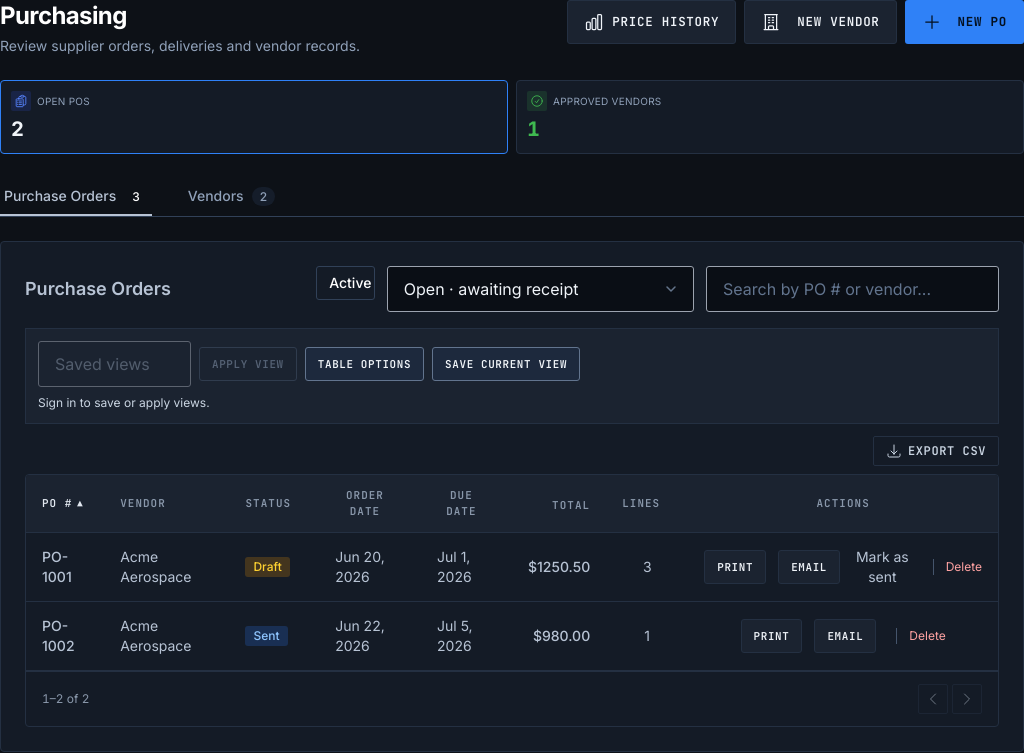
starts with open purchase orders and the Open POs tile returns from all statuses to that queue
This screenshot has width=1024, height=753.
Expected: the heading "Purchasing" is shown, [0,0,127,32]
Expected: the text "PO-RECEIVED" is not shown
Select "Active book · all statuses" in the dropdown named "Purchase order status" at (540, 289), box [387,266,694,312]
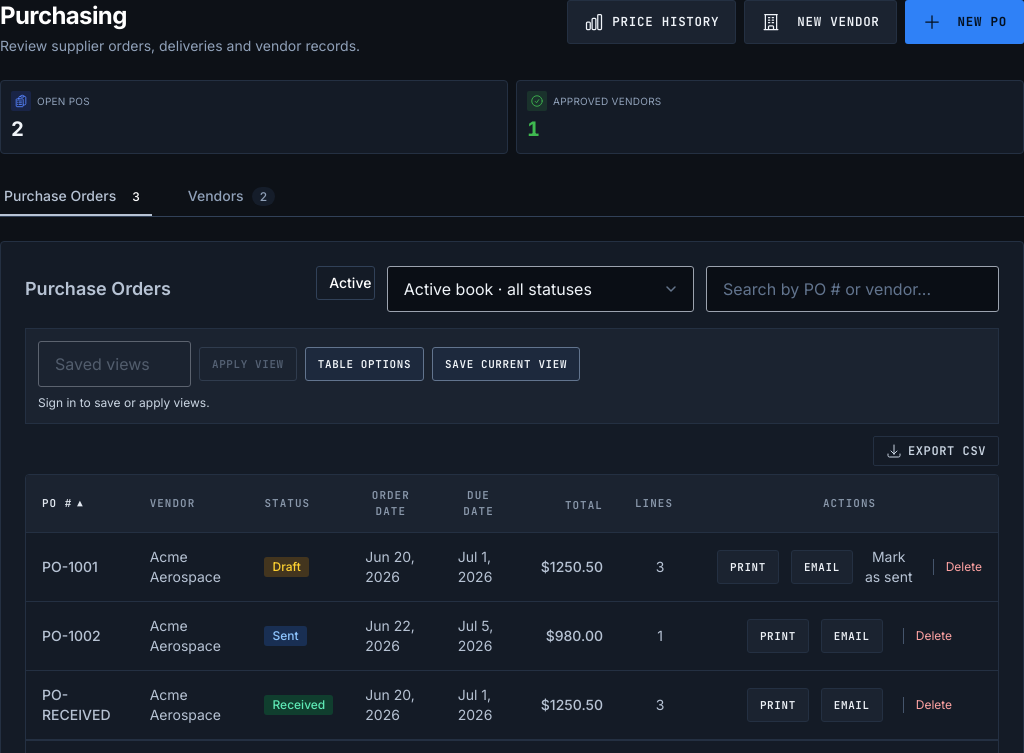
Expected: the text "PO-RECEIVED" is shown 2 times
Click the button "Open POs 2".
click(254, 117)  # box [0,80,508,154]
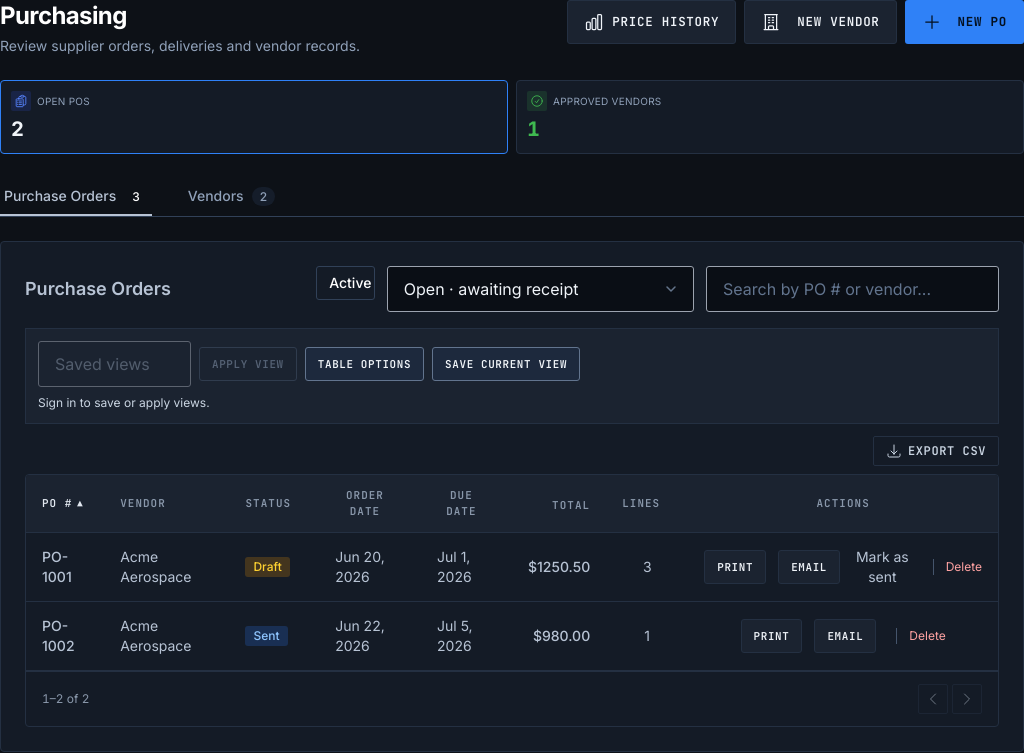
Expected: the text "PO-RECEIVED" is gone
